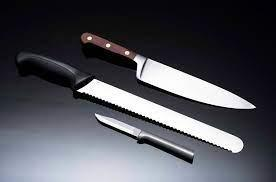Knife: (16, 54, 247, 152), (80, 33, 256, 110), (94, 115, 194, 162)
